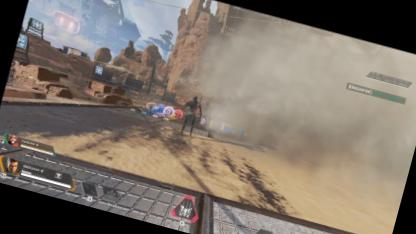Target: (180, 93, 202, 136)
